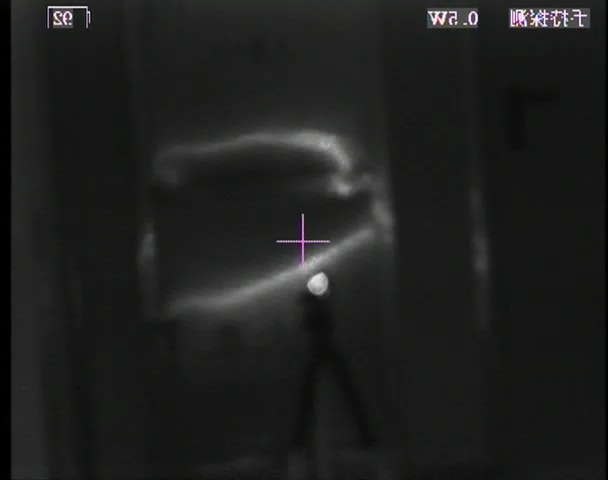my: (305, 270, 330, 293)
